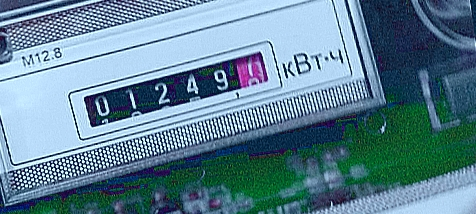0: (88, 90, 111, 118)
1: (120, 85, 138, 112)
2: (149, 79, 173, 107)
4: (180, 69, 202, 98)
7: (239, 53, 257, 79)
9: (209, 65, 230, 92)
screen: (57, 40, 298, 146)
